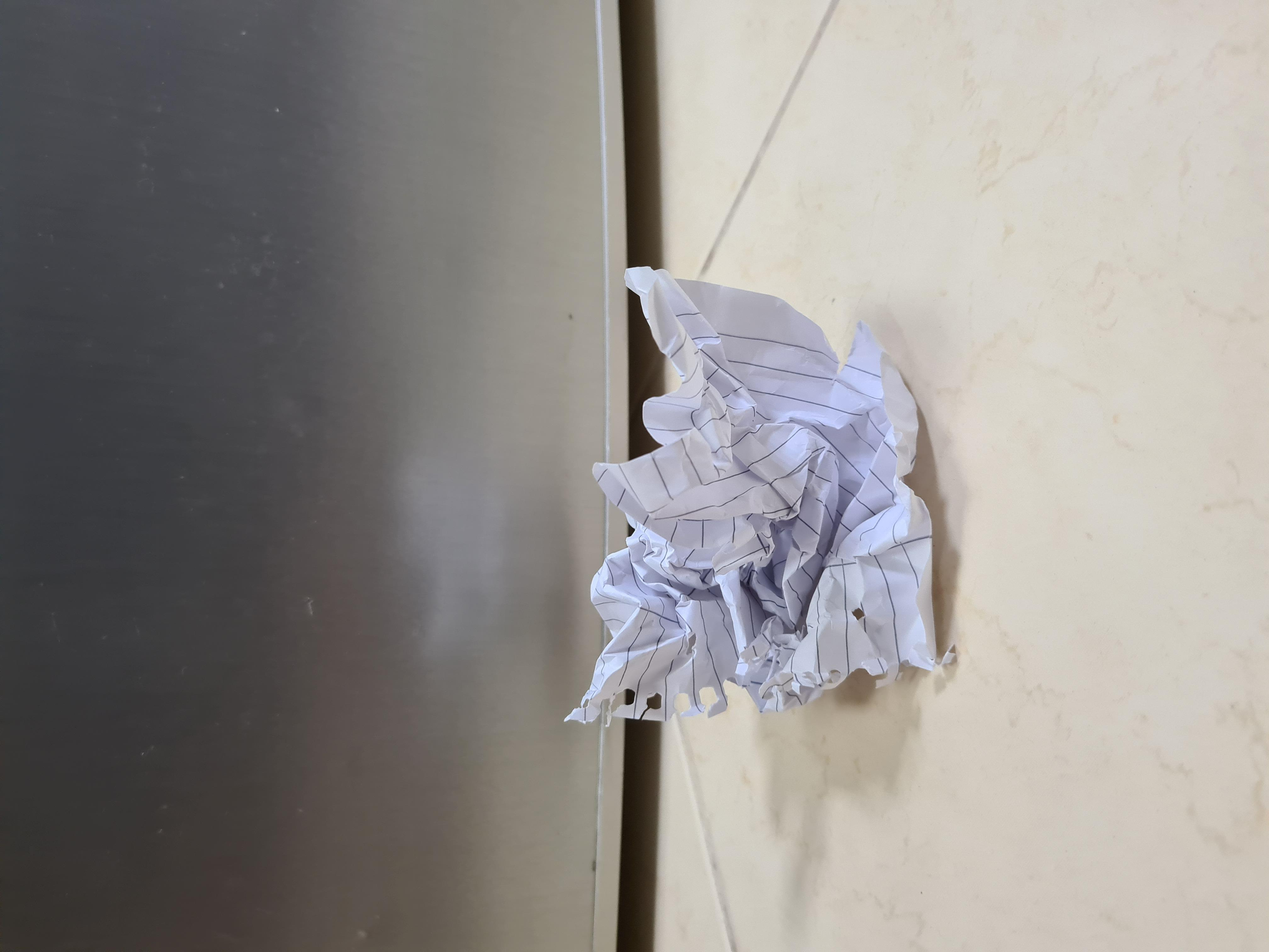paper: (274, 449, 929, 718)
